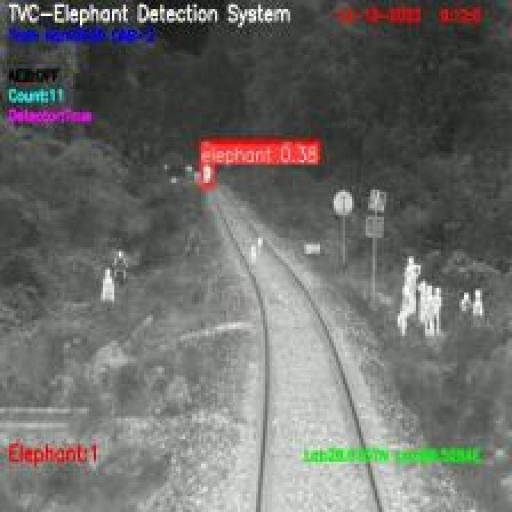Elephant: (201, 162, 213, 186)
